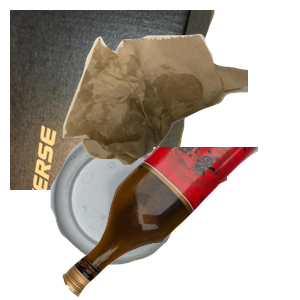cardboard: (10, 10, 217, 190)
glass: (60, 147, 300, 300)
plastic: (48, 132, 224, 300)
trash: (60, 31, 300, 189)
